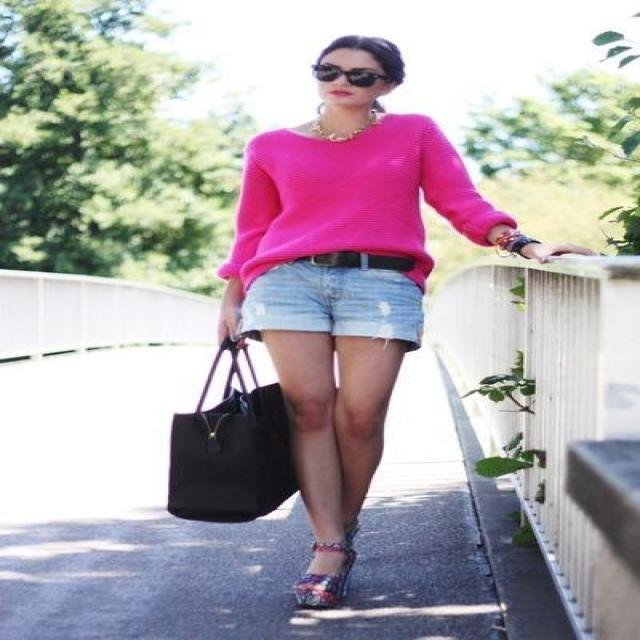bag: (168, 383, 304, 522)
shirt: (221, 114, 515, 289)
shoe: (286, 525, 360, 610)
shorts: (242, 258, 424, 343)
sunglass: (314, 49, 364, 86)
